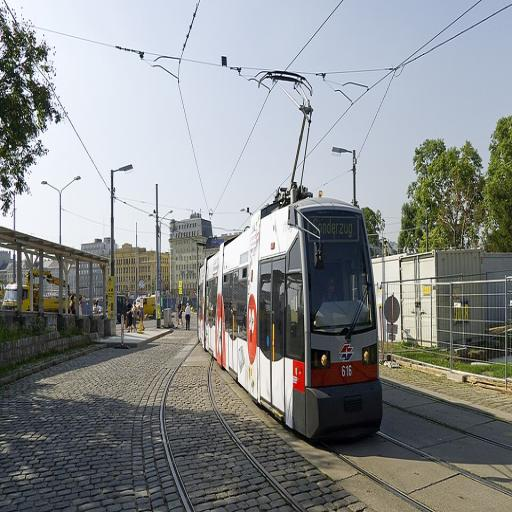ULF: (194, 198, 386, 442)
